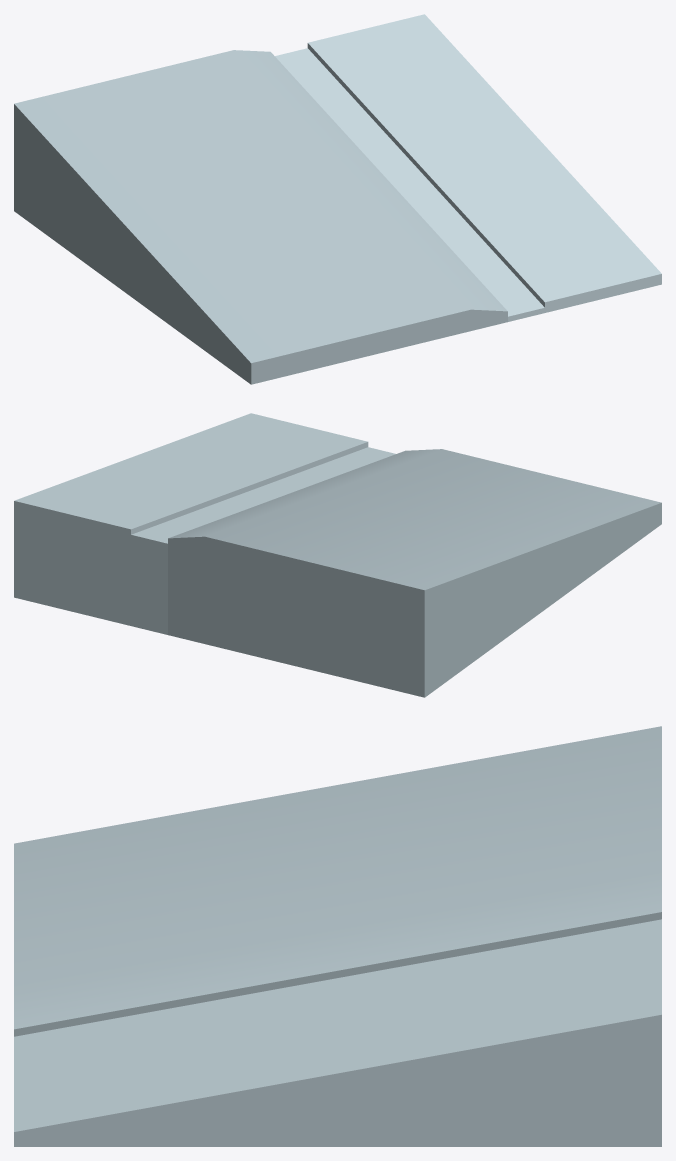
File: road_edge_slope.glb
3 views of the same model, one above another, from view 1: azimuth 30°, elevation 25°; view 2: azimuth 150°, elevation 25°; view 3: azimuth 270°, elevation 25° (orthographic). The views are drawn at different scales.
Parts seen in each view (by area): view 1: roadEdgeSlope; view 2: roadEdgeSlope; view 3: roadEdgeSlope.
Boxes of the visible parts, x1,y1,x2,y2 form: roadEdgeSlope: (14, 14, 661, 384); roadEdgeSlope: (14, 413, 661, 697); roadEdgeSlope: (14, 726, 661, 1146).
Bounding box in the file's own units: 1 × 0.25 × 1.
